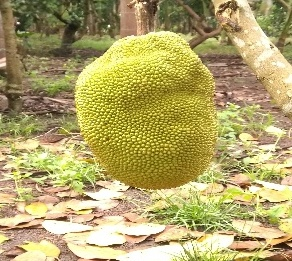Mit: (75, 35, 223, 187)
